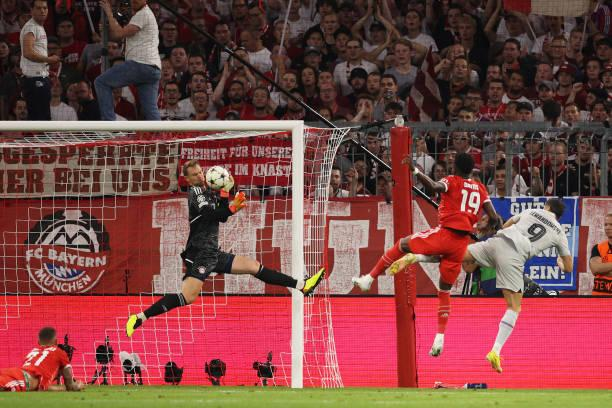Goalkeeper: (126, 160, 325, 336)
Player: (387, 198, 573, 372), (353, 153, 501, 356), (0, 326, 84, 391)
ball: (206, 166, 230, 189)
